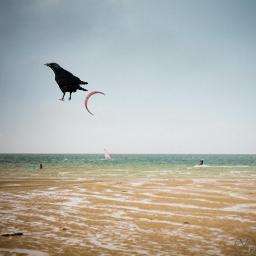Crow: (44, 62, 88, 102)
